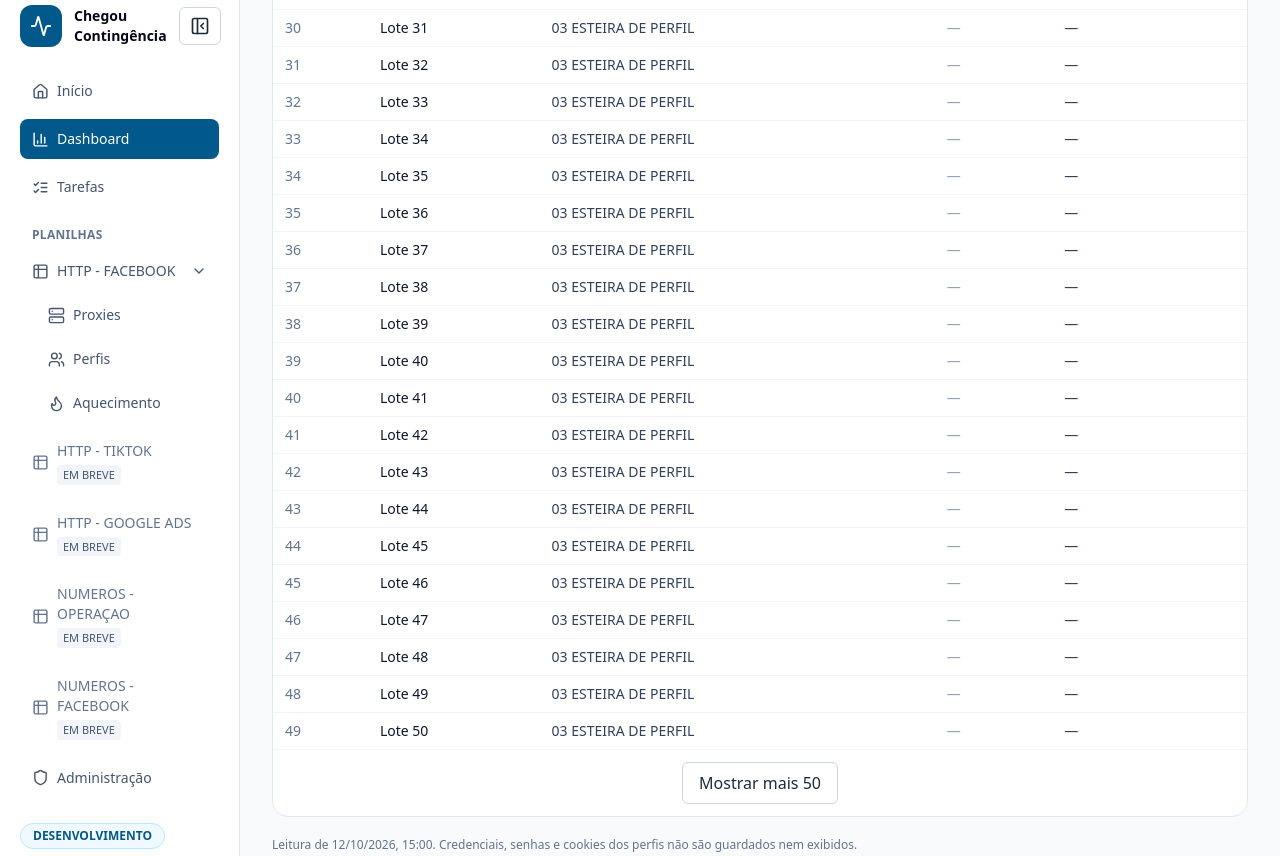
Test: mostra 50 por vez com botão para ver mais
(page scrolled)
What coordinates should you click on to do the following:
click the button "Mostrar mais 50"
I would click on:
 (760, 783)
Its box is [682, 762, 838, 804].
(page scrolled)
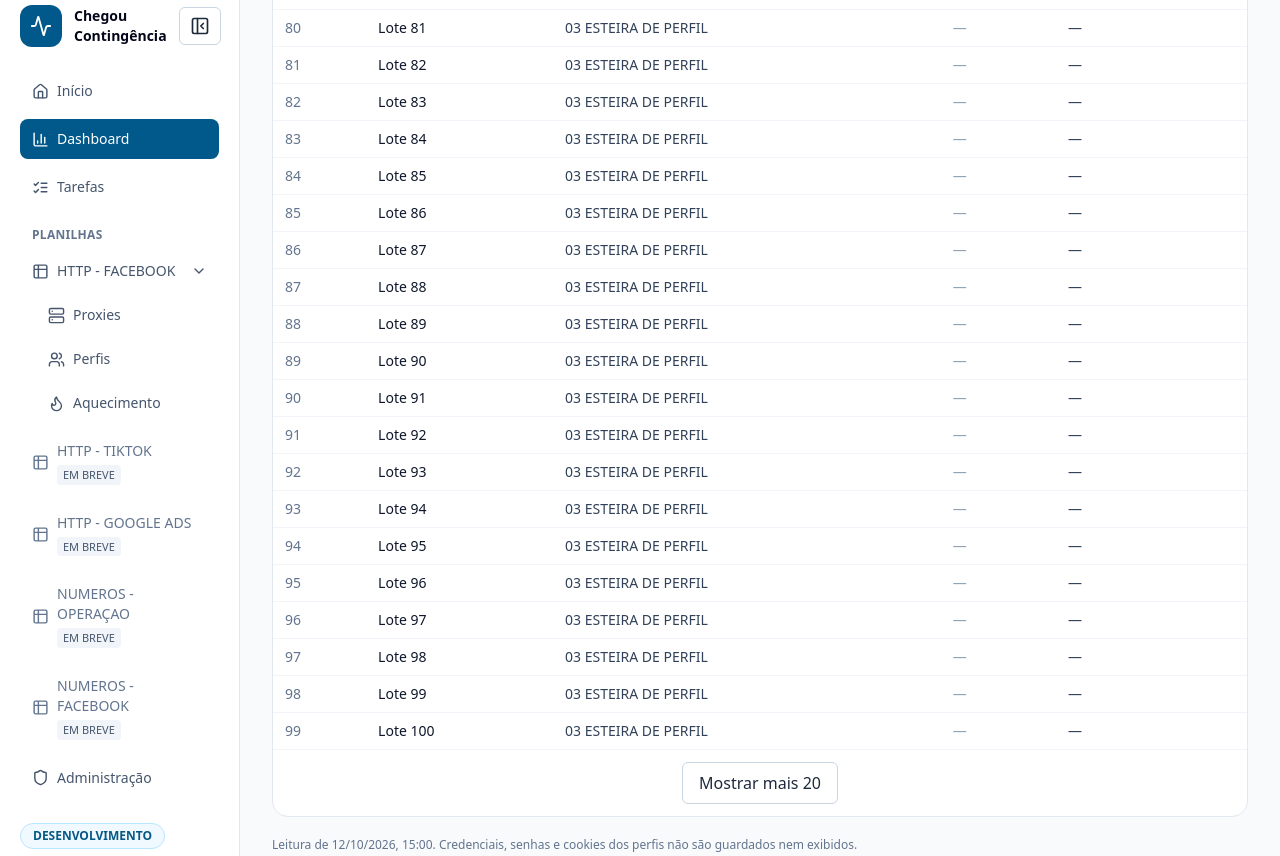
What coordinates should you click on to do the following:
click the button "Mostrar mais 20"
I would click on:
 (760, 783)
Its box is [682, 762, 838, 804].
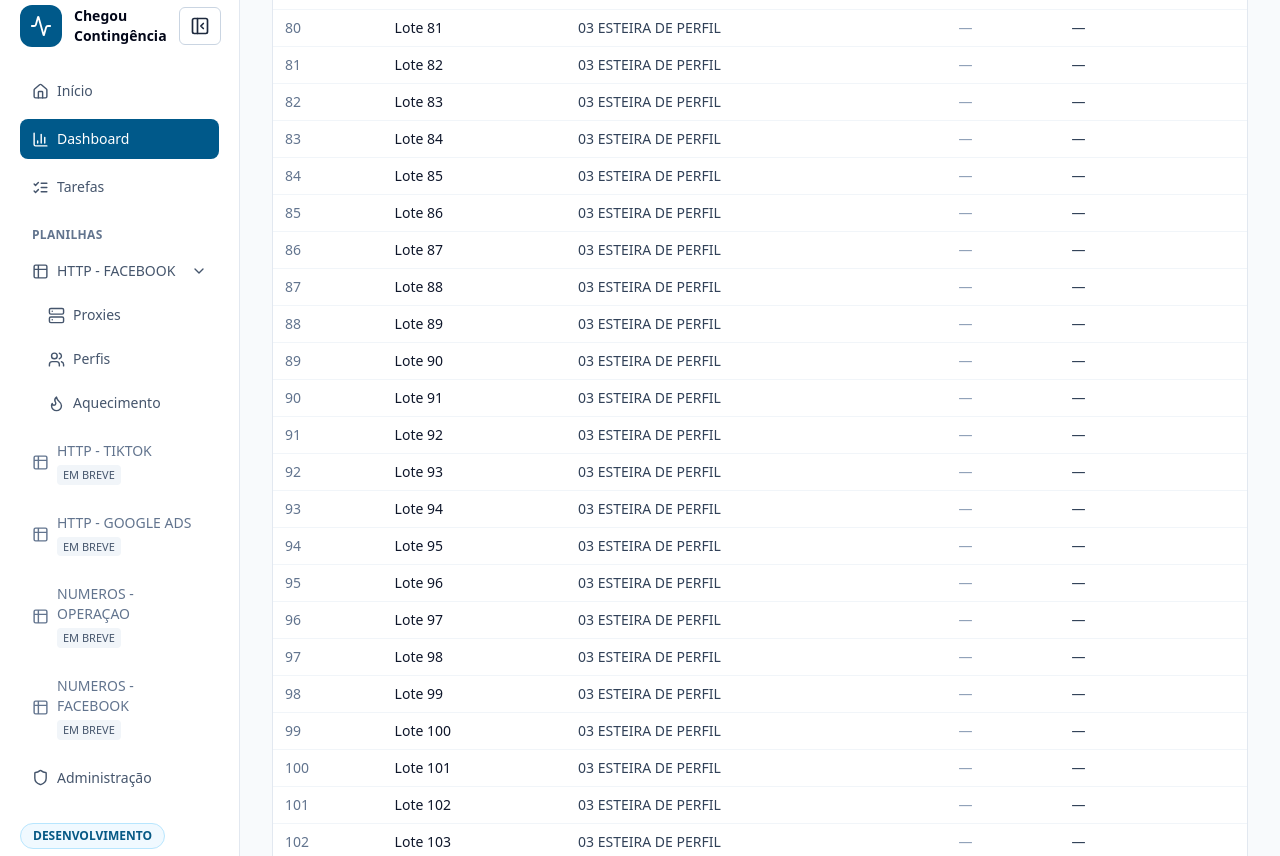
Check: the button "Mostrar mais" is gone
